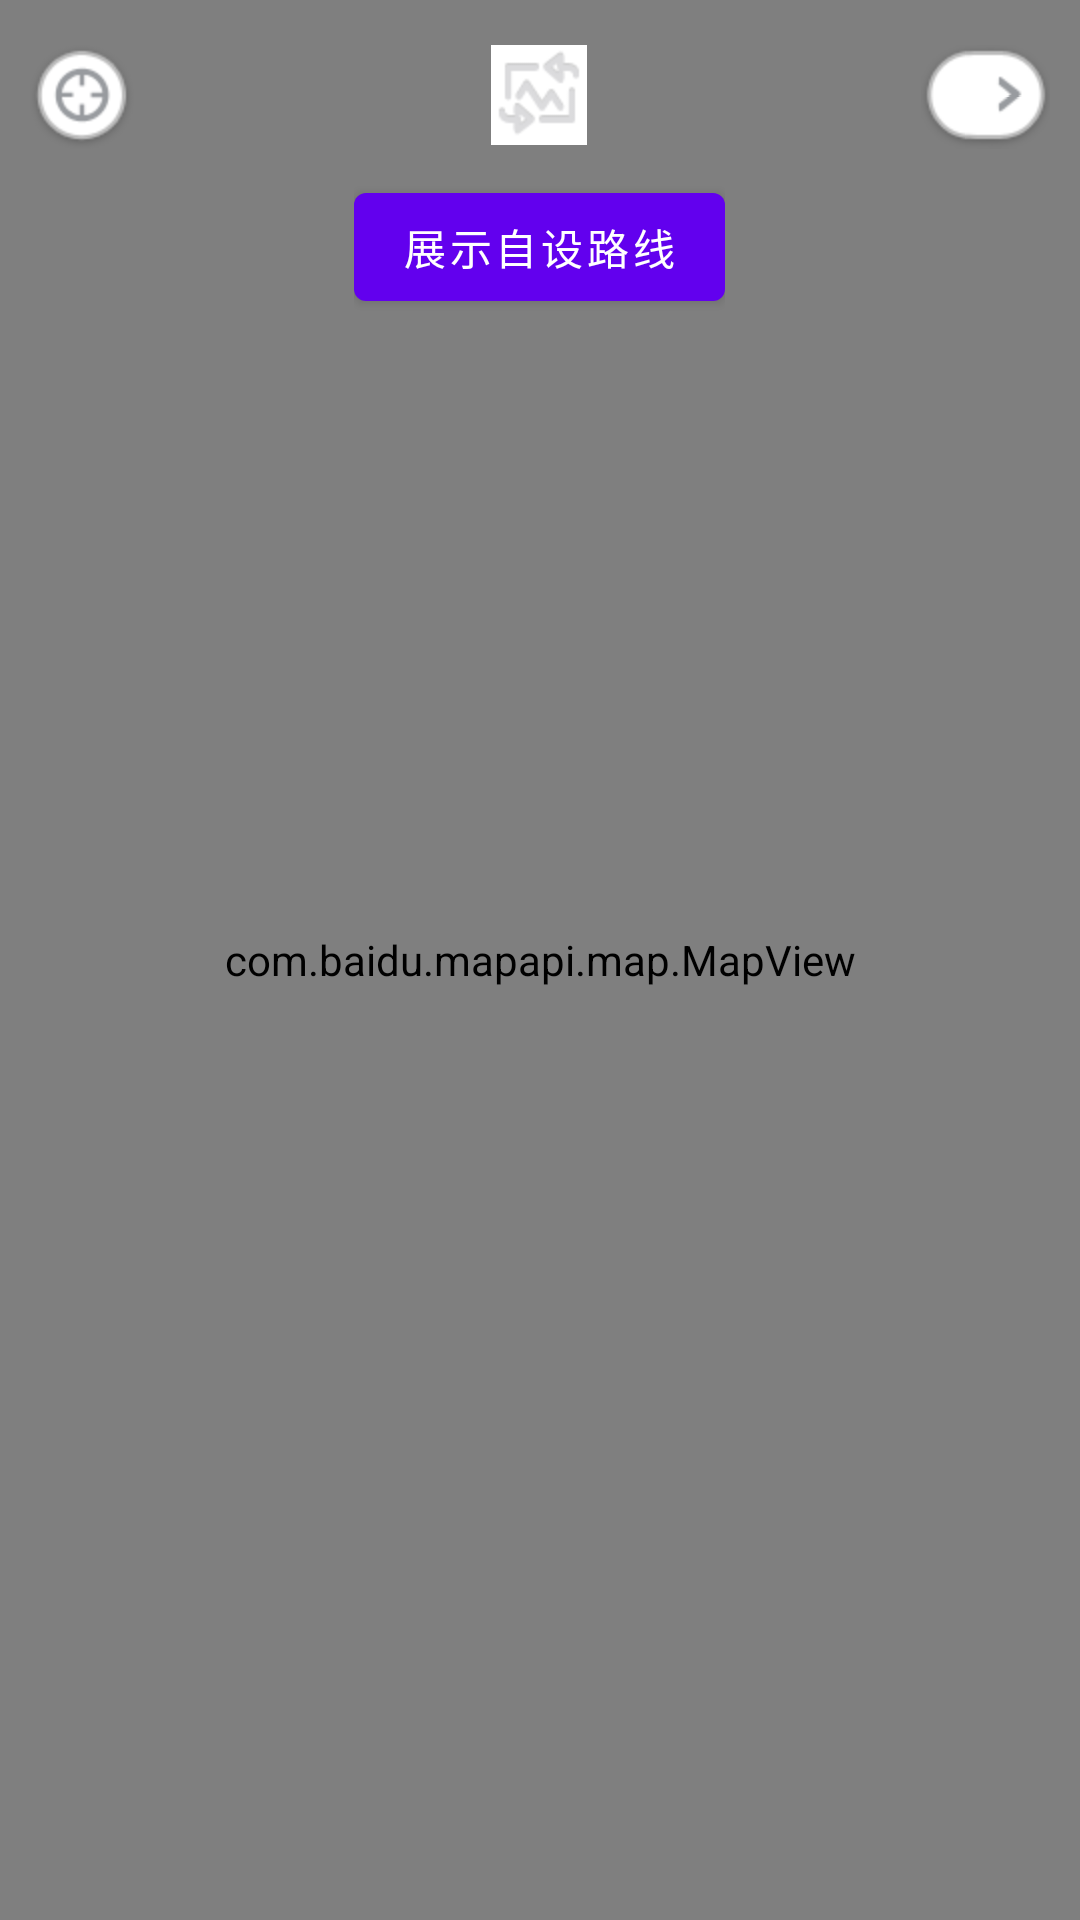

Locate icon controls on the screen. Image size 1080*1920, boxes as (x1, y1, x2, y2).
map mode changebg: (491, 45, 587, 145)
